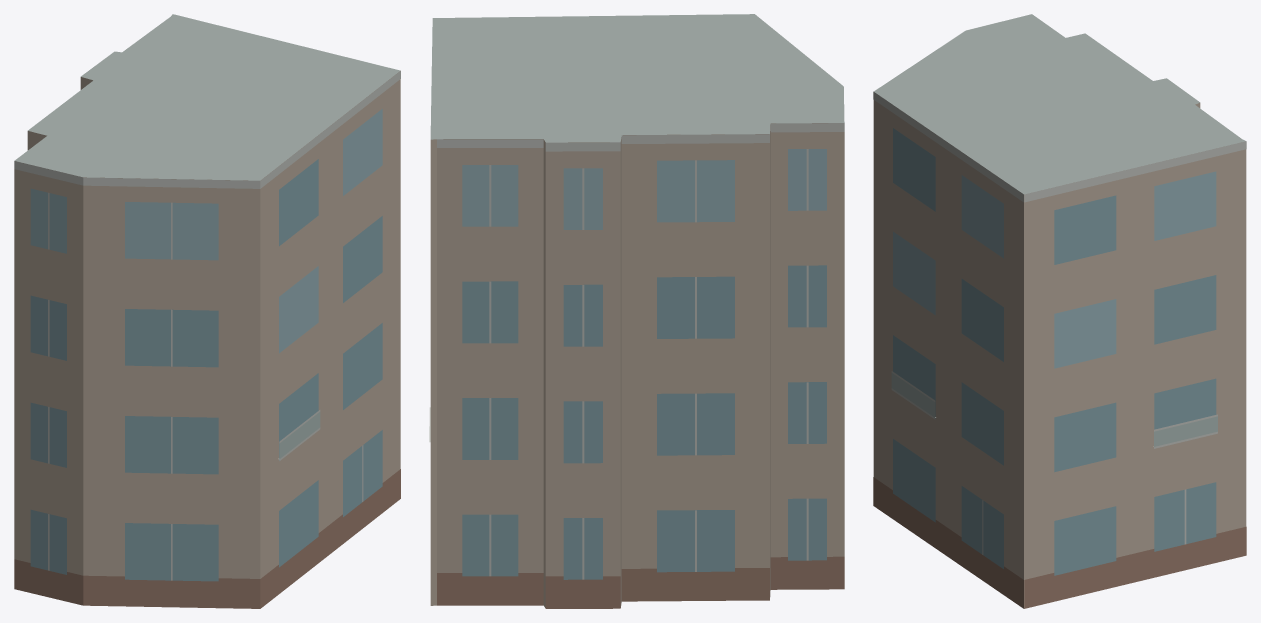
File: survey-upis-32616904.glb
The picture shows the model from 3 angles, left to right: view 1: azimuth 30°, elevation 25°; view 2: azimuth 150°, elevation 25°; view 3: azimuth 270°, elevation 25°; orthographic projection. The views are drawn at different scales.
Visible parts, largest first — view 1: survey-upis-32616904.tmp; view 2: survey-upis-32616904.tmp; view 3: survey-upis-32616904.tmp.
Boxes of the visible parts, x1,y1,x2,y2 form: survey-upis-32616904.tmp: [14, 14, 400, 608]; survey-upis-32616904.tmp: [429, 14, 844, 608]; survey-upis-32616904.tmp: [873, 14, 1246, 608].
Size of the model in its own units: 11.78 by 12.6 by 10.28.
